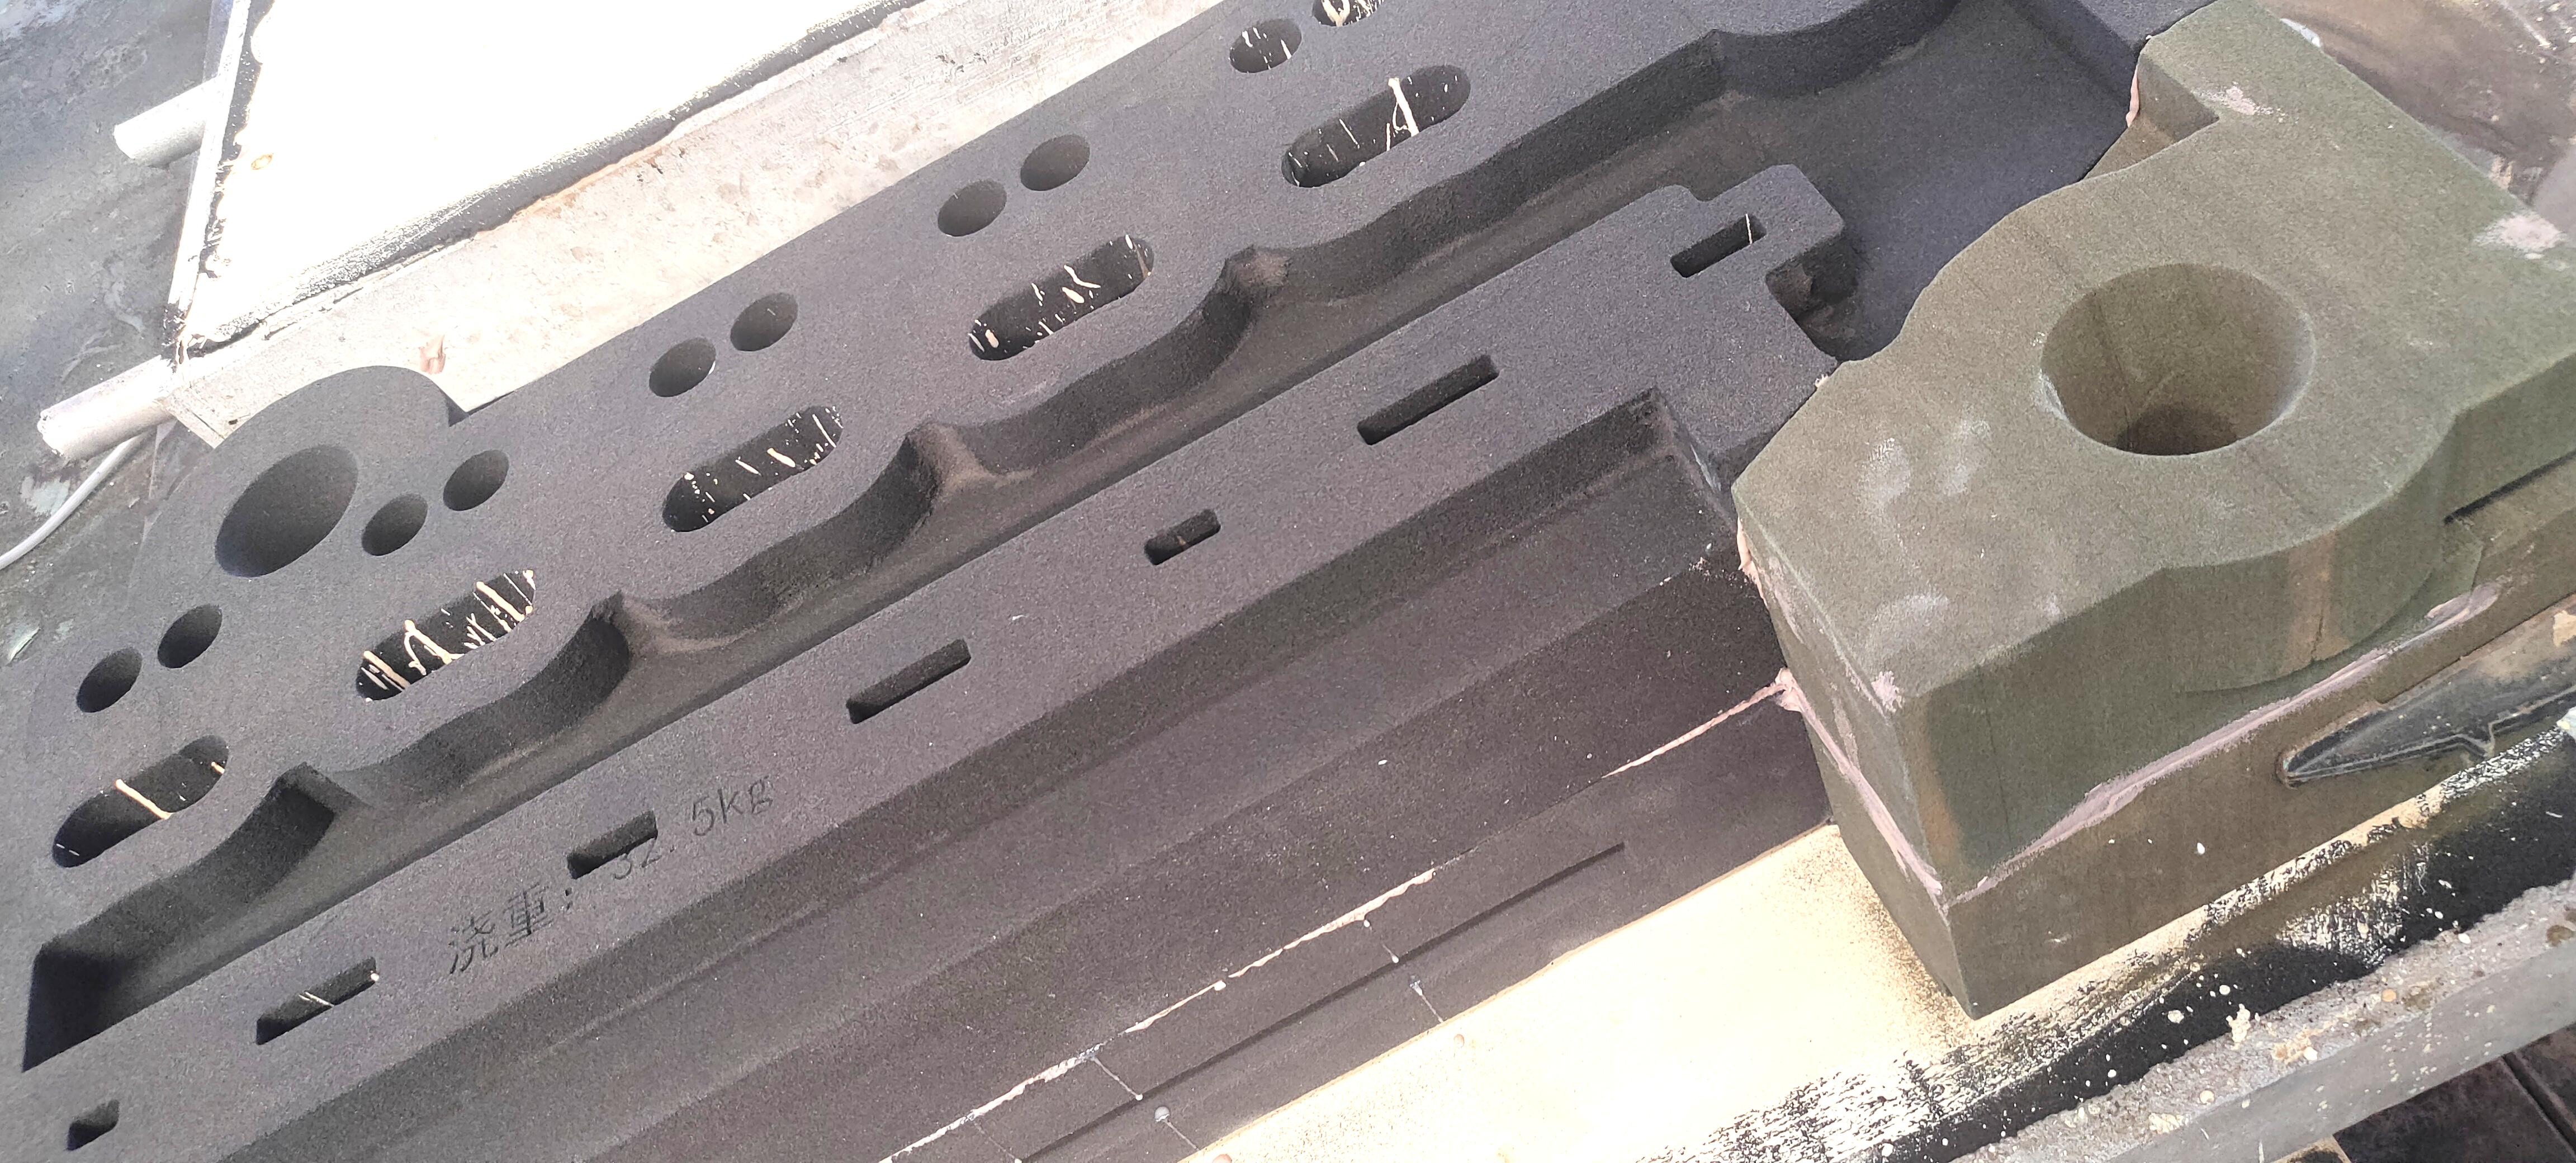pouring hole: (2034, 261, 2321, 460), (212, 440, 358, 577)
